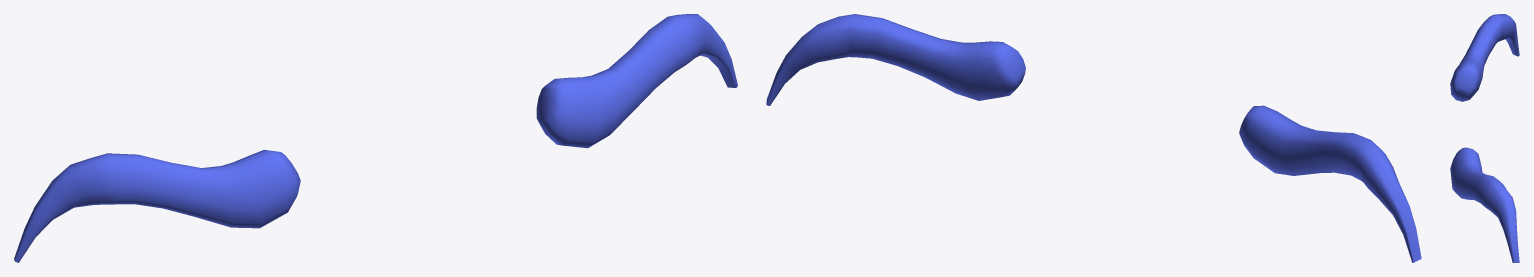
Rendered from Eyebrows_27_03.fbx.
3 renders of one model, left to right at view 1: azimuth 30°, elevation 25°; view 2: azimuth 150°, elevation 25°; view 3: azimuth 270°, elevation 25°, orthographic. The views are drawn at different scales.
Parts seen in each view (by area): view 1: Eyebrows_27_03; view 2: Eyebrows_27_03; view 3: Eyebrows_27_03.
Boxes of the visible parts, <box> form: Eyebrows_27_03: <box>14,14,737,262</box>; Eyebrows_27_03: <box>766,14,1421,262</box>; Eyebrows_27_03: <box>1450,14,1519,262</box>.
Size of the model in its own units: 18.72 by 2.55 by 2.61.
